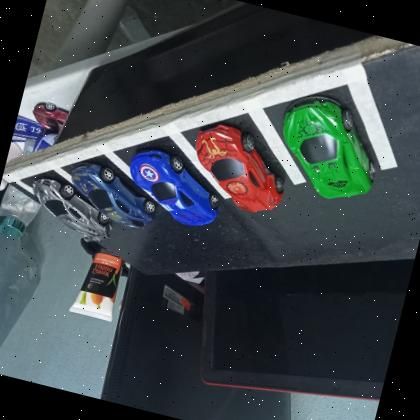Car: (266, 88, 391, 208), (183, 120, 296, 220), (116, 144, 229, 233), (62, 161, 163, 234), (20, 174, 120, 246)
